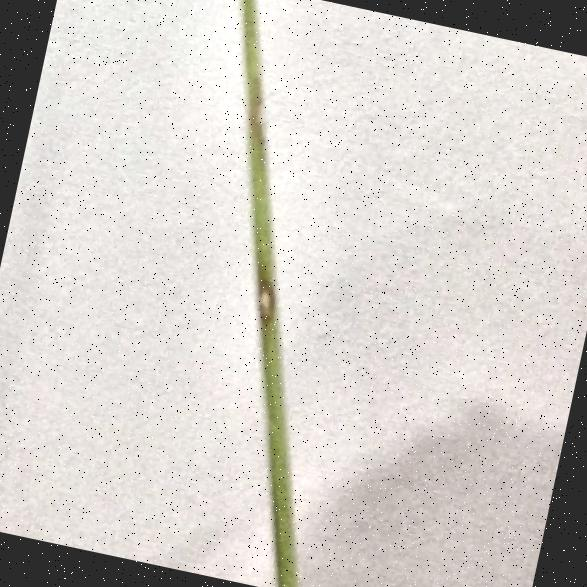Leaf_smut: (225, 68, 285, 145), (236, 271, 292, 329)
